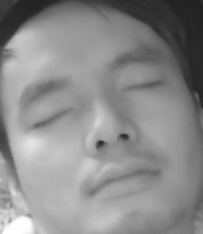blink: (33, 109, 75, 130), (124, 78, 162, 98)
mouth: (89, 154, 163, 199)
